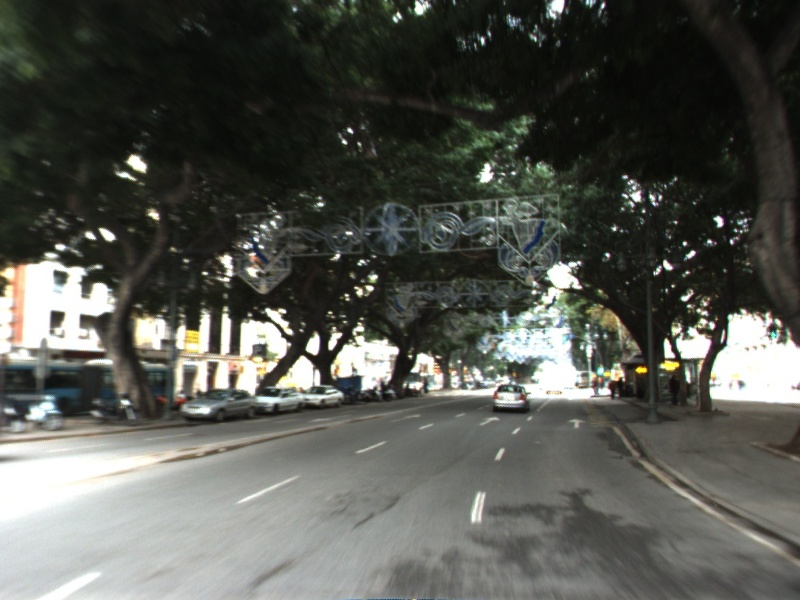STRAIGHT: (387, 412, 423, 424), (477, 414, 503, 428), (566, 417, 588, 430)
